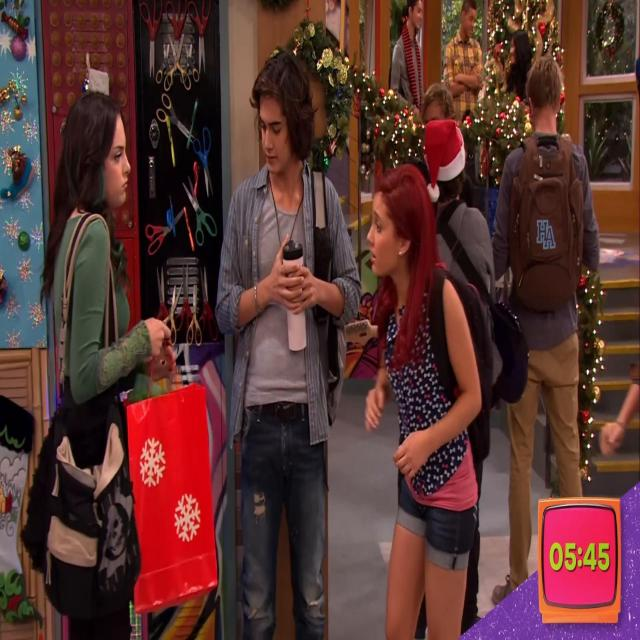scissor: (182, 177, 216, 245), (157, 94, 195, 144), (146, 208, 183, 256), (189, 0, 211, 76), (140, 0, 161, 78), (198, 267, 218, 343), (164, 33, 190, 91), (194, 126, 213, 197), (174, 265, 193, 330), (165, 0, 187, 55), (166, 284, 183, 346), (187, 284, 201, 347), (180, 44, 200, 81), (156, 45, 174, 83), (156, 268, 168, 320)
